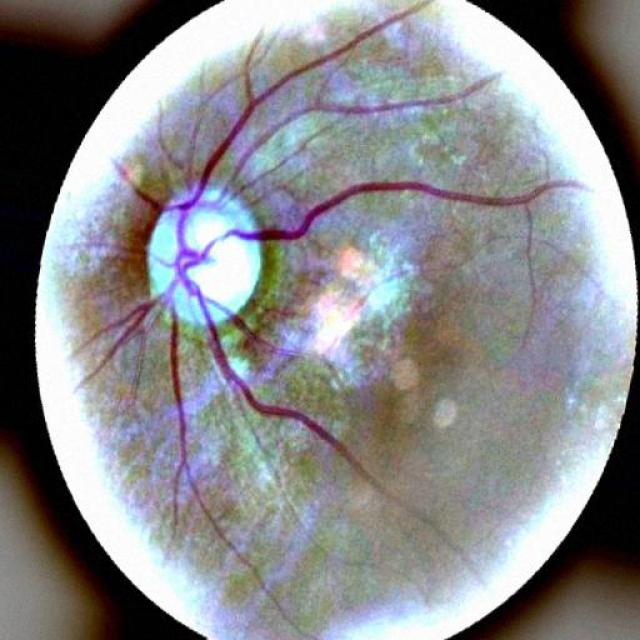Nerves: (185, 279, 421, 514), (178, 15, 406, 234), (195, 177, 544, 260)
Optic Disk: (146, 187, 266, 328)
